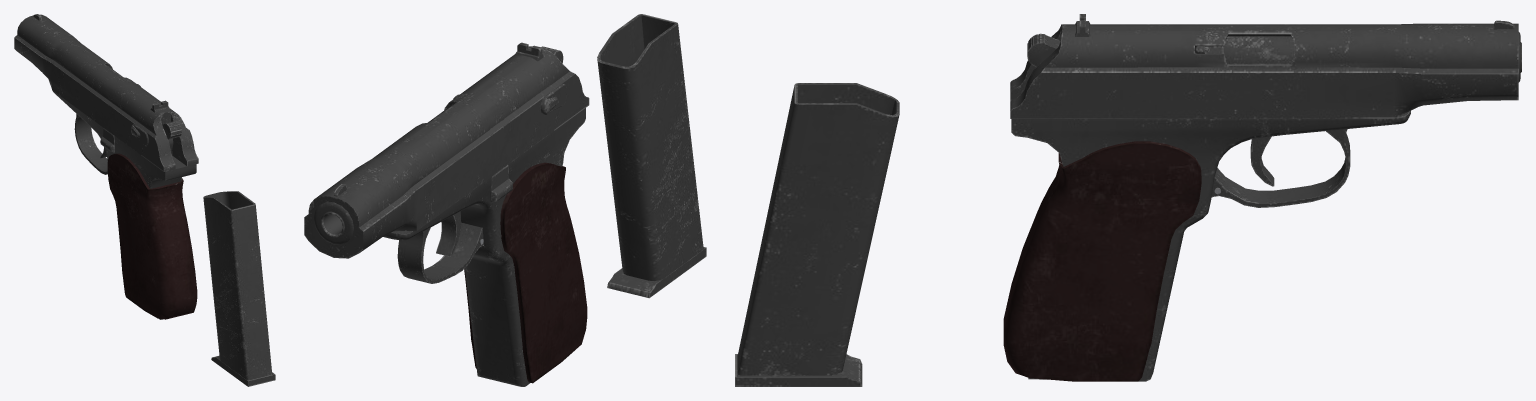
File: cc0-guns-explosives-pack-glb--makarov.glb
The picture shows the model from 3 angles, left to right: view 1: azimuth 30°, elevation 25°; view 2: azimuth 150°, elevation 25°; view 3: azimuth 270°, elevation 25°; orthographic projection. The views are drawn at different scales.
Parts seen in each view (by area): view 1: Body, Slide, Magazine, Hammer, Safety; view 2: Body, Slide, Magazine, Trigger, Barrel, Safety; view 3: Body, Slide, Magazine, Barrel, Hammer, Trigger.
Part boxes in pixels (x1,y1,x2,y2): Body: (52, 90, 197, 319); Slide: (14, 14, 198, 171); Magazine: (203, 191, 275, 386); Hammer: (162, 121, 181, 153); Safety: (131, 124, 148, 146); Body: (383, 108, 587, 386); Slide: (304, 42, 589, 258); Magazine: (597, 14, 706, 298); Trigger: (436, 211, 460, 256); Barrel: (321, 105, 452, 237); Safety: (541, 83, 567, 114); Body: (1003, 110, 1410, 381); Slide: (1010, 14, 1520, 118); Magazine: (735, 83, 899, 386); Barrel: (1223, 36, 1521, 72); Hammer: (1027, 33, 1060, 67); Trigger: (1250, 136, 1274, 186).
Bounding box in the file's own units: 0.0257 × 0.1276 × 0.2557.
Materials: 1 (1 with a texture image).
